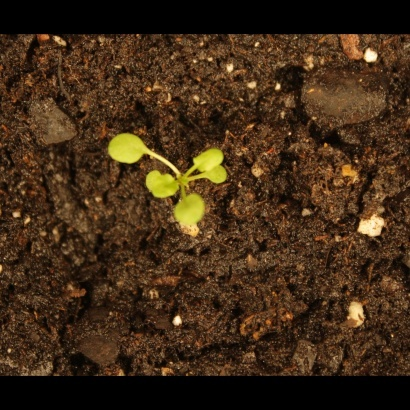leaf: (106, 133, 154, 167), (172, 195, 214, 231), (192, 145, 226, 172), (151, 176, 181, 199), (142, 168, 165, 191), (205, 164, 228, 187)
